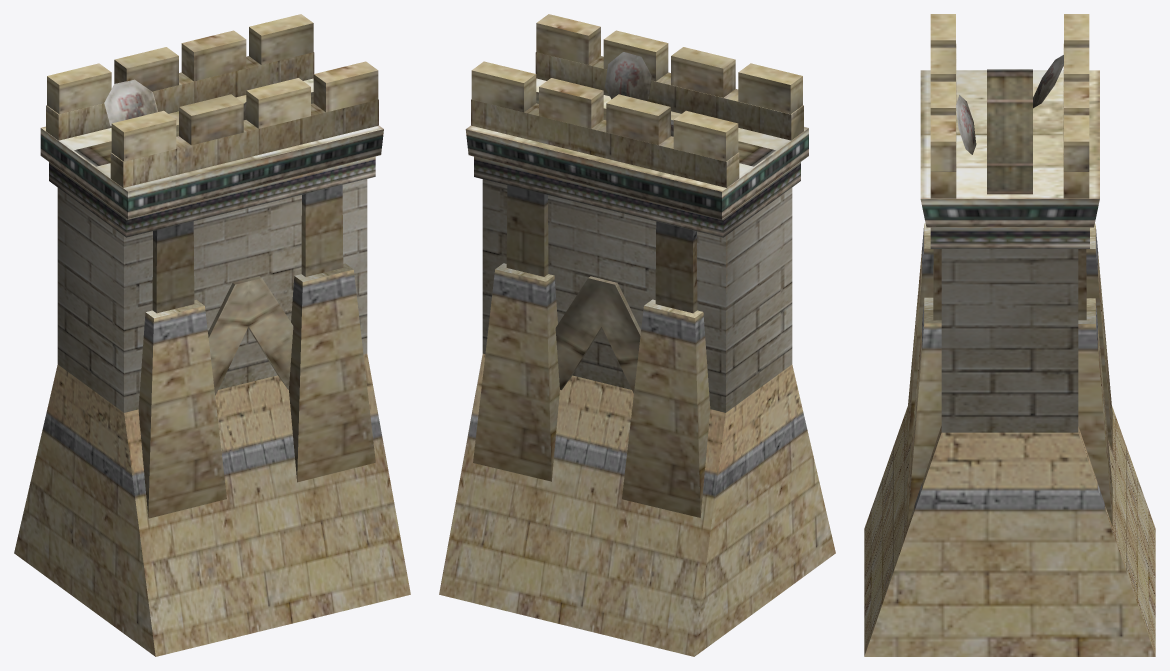
The model's file is s_carthaginians_wall_short.glb.
The picture shows the model from 3 angles, left to right: view 1: azimuth 30°, elevation 25°; view 2: azimuth 150°, elevation 25°; view 3: azimuth 270°, elevation 25°; orthographic projection. The views are drawn at different scales.
Visible parts, largest first — view 1: s_carthaginians_wall_short_part0; view 2: s_carthaginians_wall_short_part0; view 3: s_carthaginians_wall_short_part0.
Part boxes in pixels (x1,y1,x2,y2): s_carthaginians_wall_short_part0: (14,14,410,656); s_carthaginians_wall_short_part0: (439,14,835,656); s_carthaginians_wall_short_part0: (864,14,1155,656).
Bounding box in the file's own units: 3.15 × 5.88 × 3.02.
Materials: 1 (1 with a texture image).
